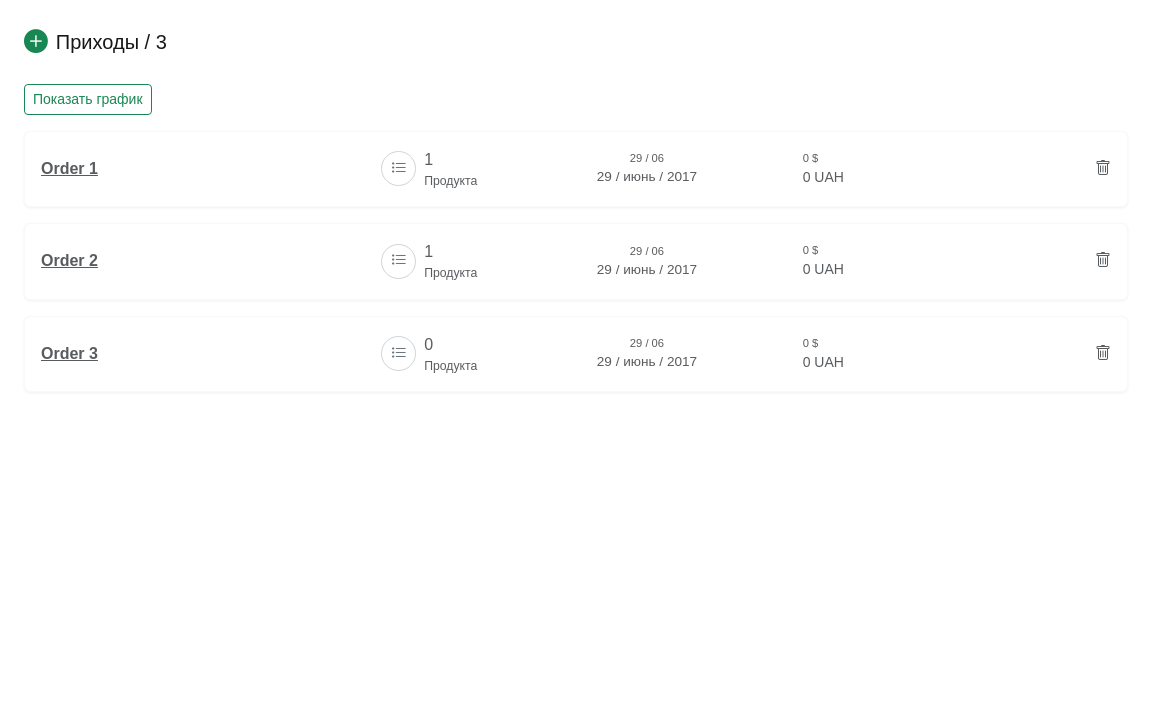
Scenario: Orders component › shows chart when button clicked
Click the button "Показать график" at (88, 99), box x1=24 y1=84 x2=152 y2=115
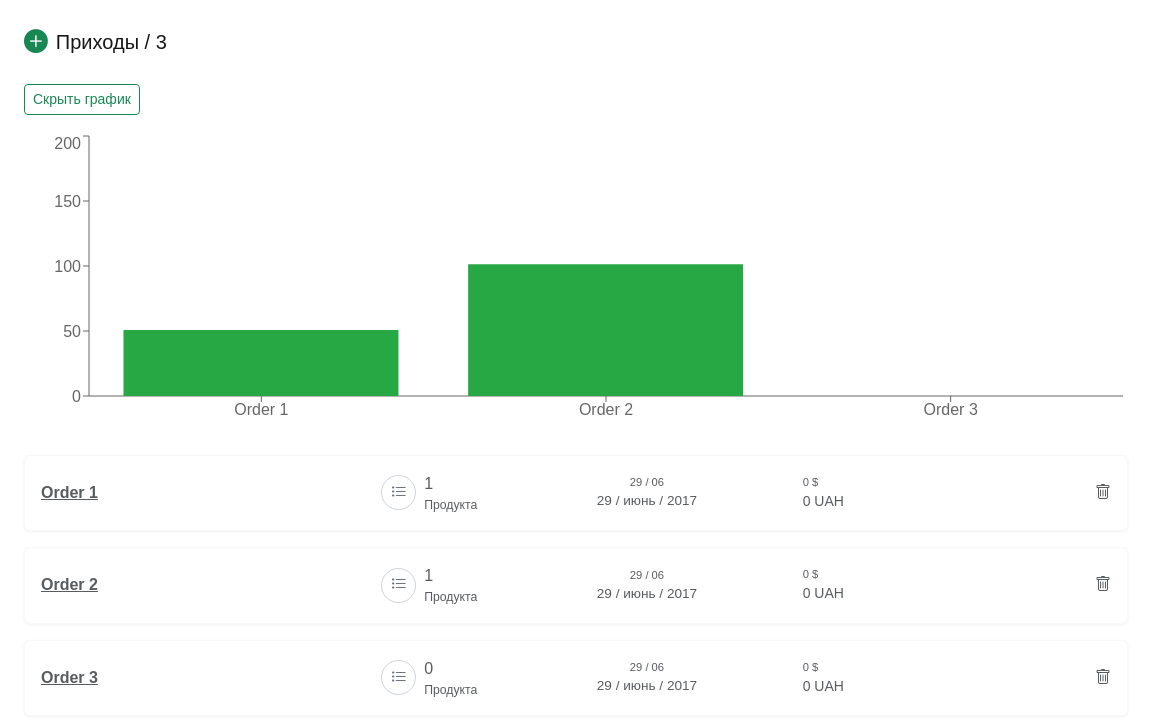
Expected: the button "Скрыть график" is shown, x1=24 y1=84 x2=140 y2=115
